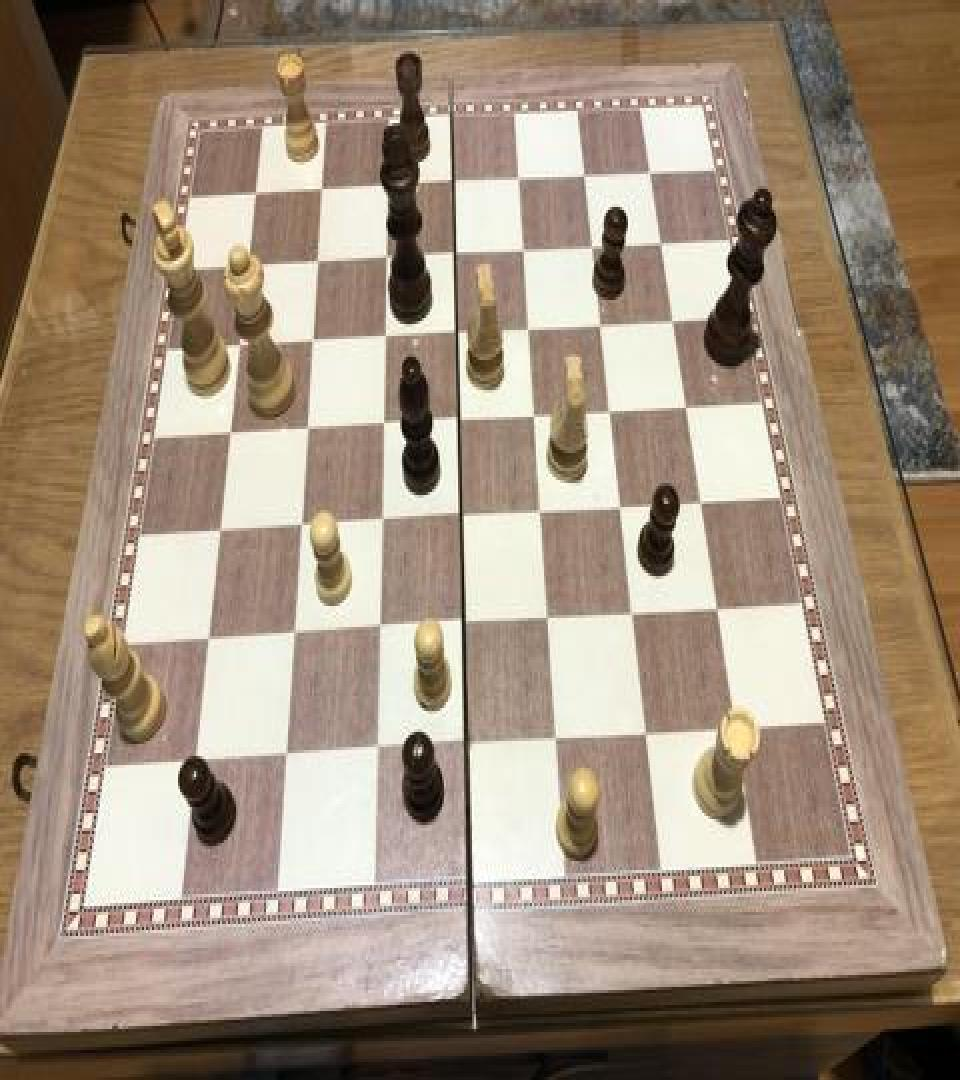xcorner: (623, 595, 647, 632), (368, 610, 392, 647), (185, 742, 209, 779), (640, 153, 664, 189), (574, 158, 598, 194), (508, 160, 532, 196), (442, 164, 466, 200), (377, 166, 401, 202), (310, 171, 334, 207), (244, 174, 268, 210), (651, 225, 675, 261), (582, 228, 606, 264), (513, 232, 537, 268), (444, 236, 468, 272), (375, 238, 399, 274), (306, 243, 330, 279), (237, 246, 261, 282), (663, 303, 687, 339), (591, 306, 615, 342), (519, 310, 543, 346), (446, 314, 470, 350), (374, 318, 398, 354), (301, 322, 325, 358), (228, 326, 252, 362), (676, 388, 700, 424), (600, 393, 624, 429), (525, 398, 549, 434), (448, 400, 472, 436), (372, 405, 396, 441), (296, 410, 320, 446), (219, 414, 243, 450), (691, 484, 715, 520), (611, 489, 635, 525), (531, 494, 555, 530), (451, 498, 475, 534), (370, 502, 394, 538), (290, 507, 314, 543), (209, 512, 233, 548), (708, 591, 732, 627), (538, 600, 562, 636), (453, 606, 477, 642), (283, 615, 307, 651), (197, 621, 221, 657), (727, 711, 751, 747), (637, 716, 661, 752), (547, 722, 571, 758), (457, 726, 481, 762), (366, 732, 390, 768), (275, 738, 299, 774)
